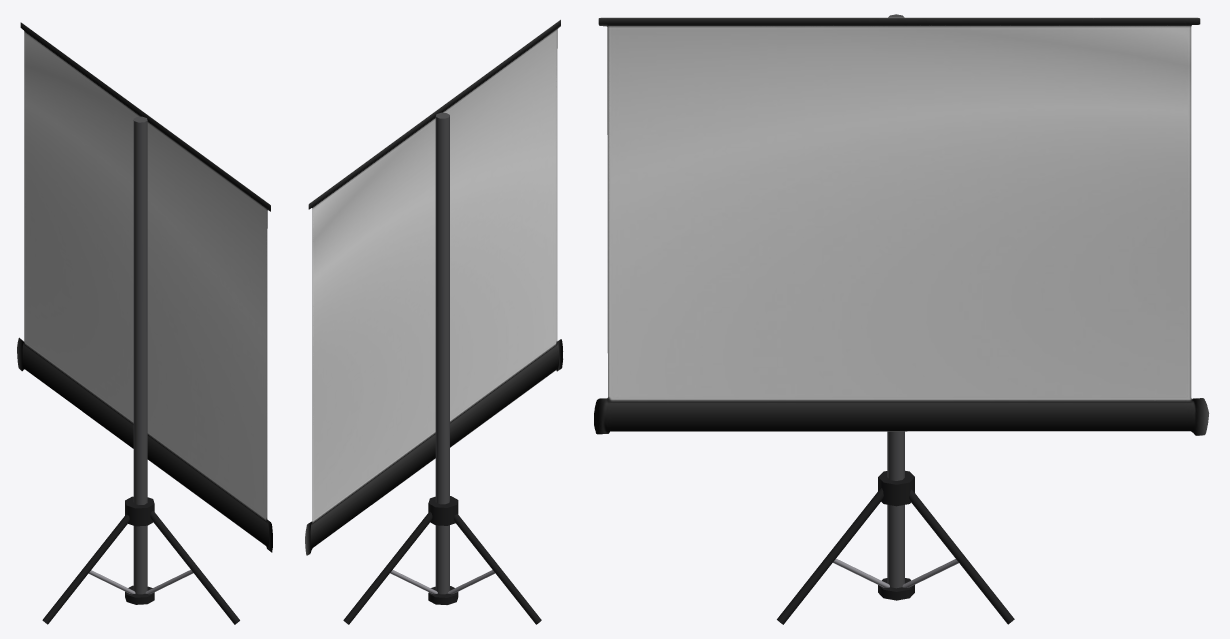
Rendered from projector screen2.FBX.
3 views of the same model, side by side, from view 1: azimuth 30°, elevation 25°; view 2: azimuth 150°, elevation 25°; view 3: azimuth 270°, elevation 25° (orthographic). The views are drawn at different scales.
Visible parts, largest first — view 1: projector screen2; view 2: projector screen2; view 3: projector screen2.
Part boxes in pixels (x1=…): projector screen2: x1=17, y1=22, x2=272, y2=624; projector screen2: x1=305, y1=19, x2=563, y2=624; projector screen2: x1=594, y1=14, x2=1209, y2=624.
Bounding box in the file's own units: 4.69 × 14.69 × 14.16.
